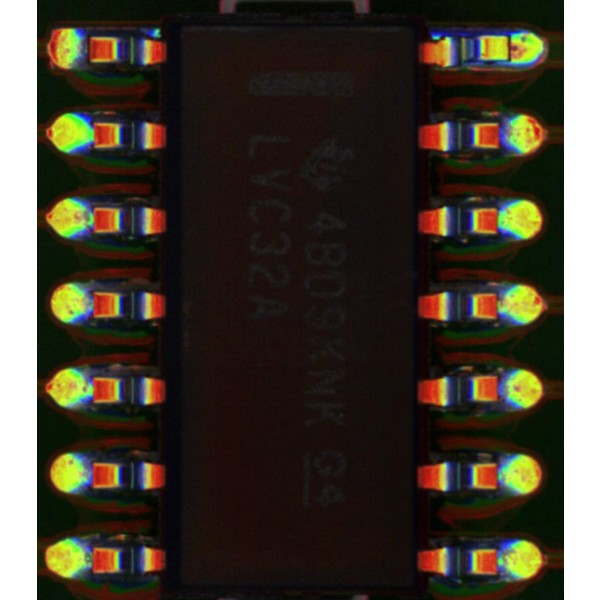Bad_podu: (497, 39, 529, 59)
